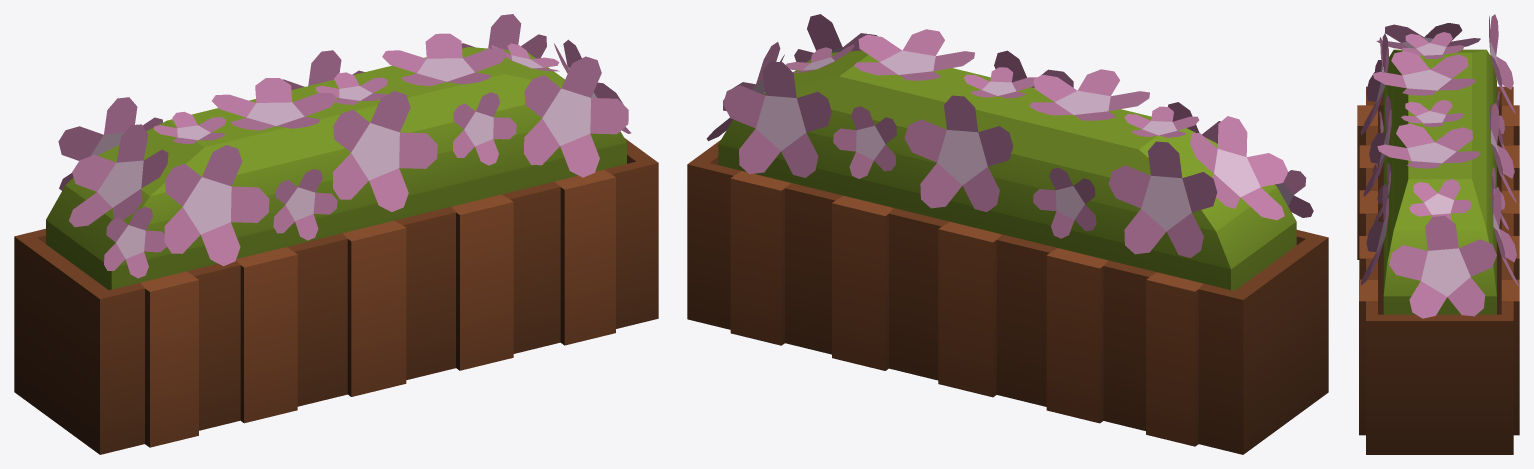
Rendered from pink_planter.fbx.
3 views of the same model, side by side, from view 1: azimuth 30°, elevation 25°; view 2: azimuth 150°, elevation 25°; view 3: azimuth 270°, elevation 25° (orthographic). The views are drawn at different scales.
Parts seen in each view (by area): view 1: Cylinder.464; view 2: Cylinder.464; view 3: Cylinder.464.
Part boxes in pixels (<box>): Cylinder.464: <box>14,14,658,454</box>; Cylinder.464: <box>687,14,1328,454</box>; Cylinder.464: <box>1357,14,1519,454</box>.
Size of the model in its own units: 219 by 105 by 63.87.
